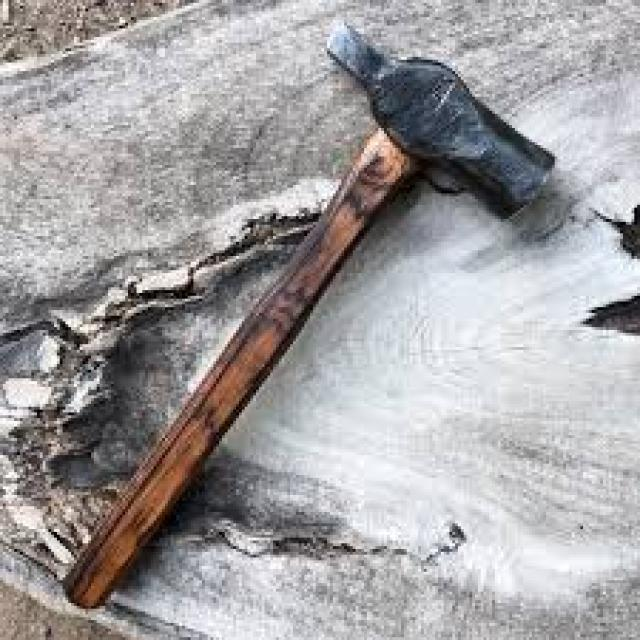hammer: (52, 14, 556, 620)
